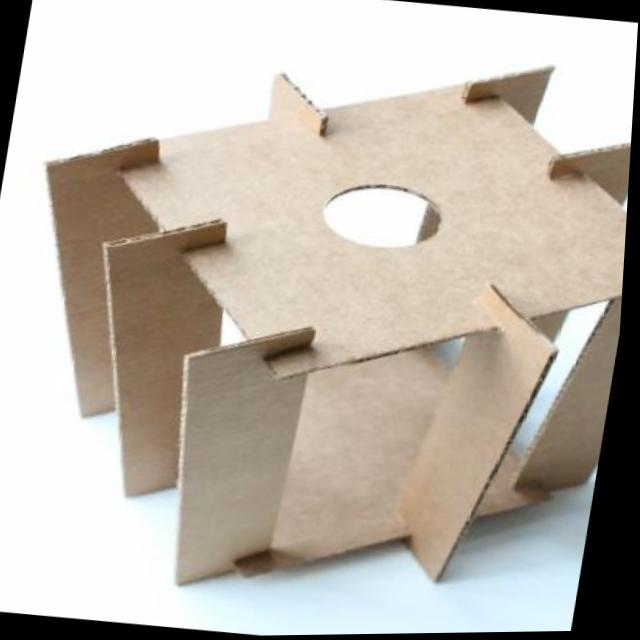box: (0, 18, 639, 640)
